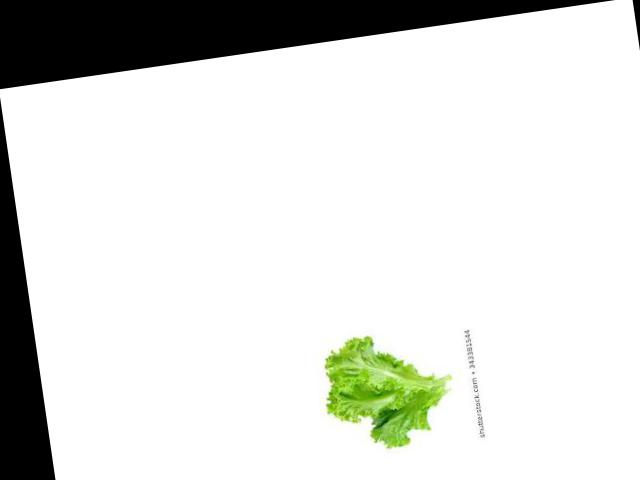lettuce: (331, 340, 510, 472)
